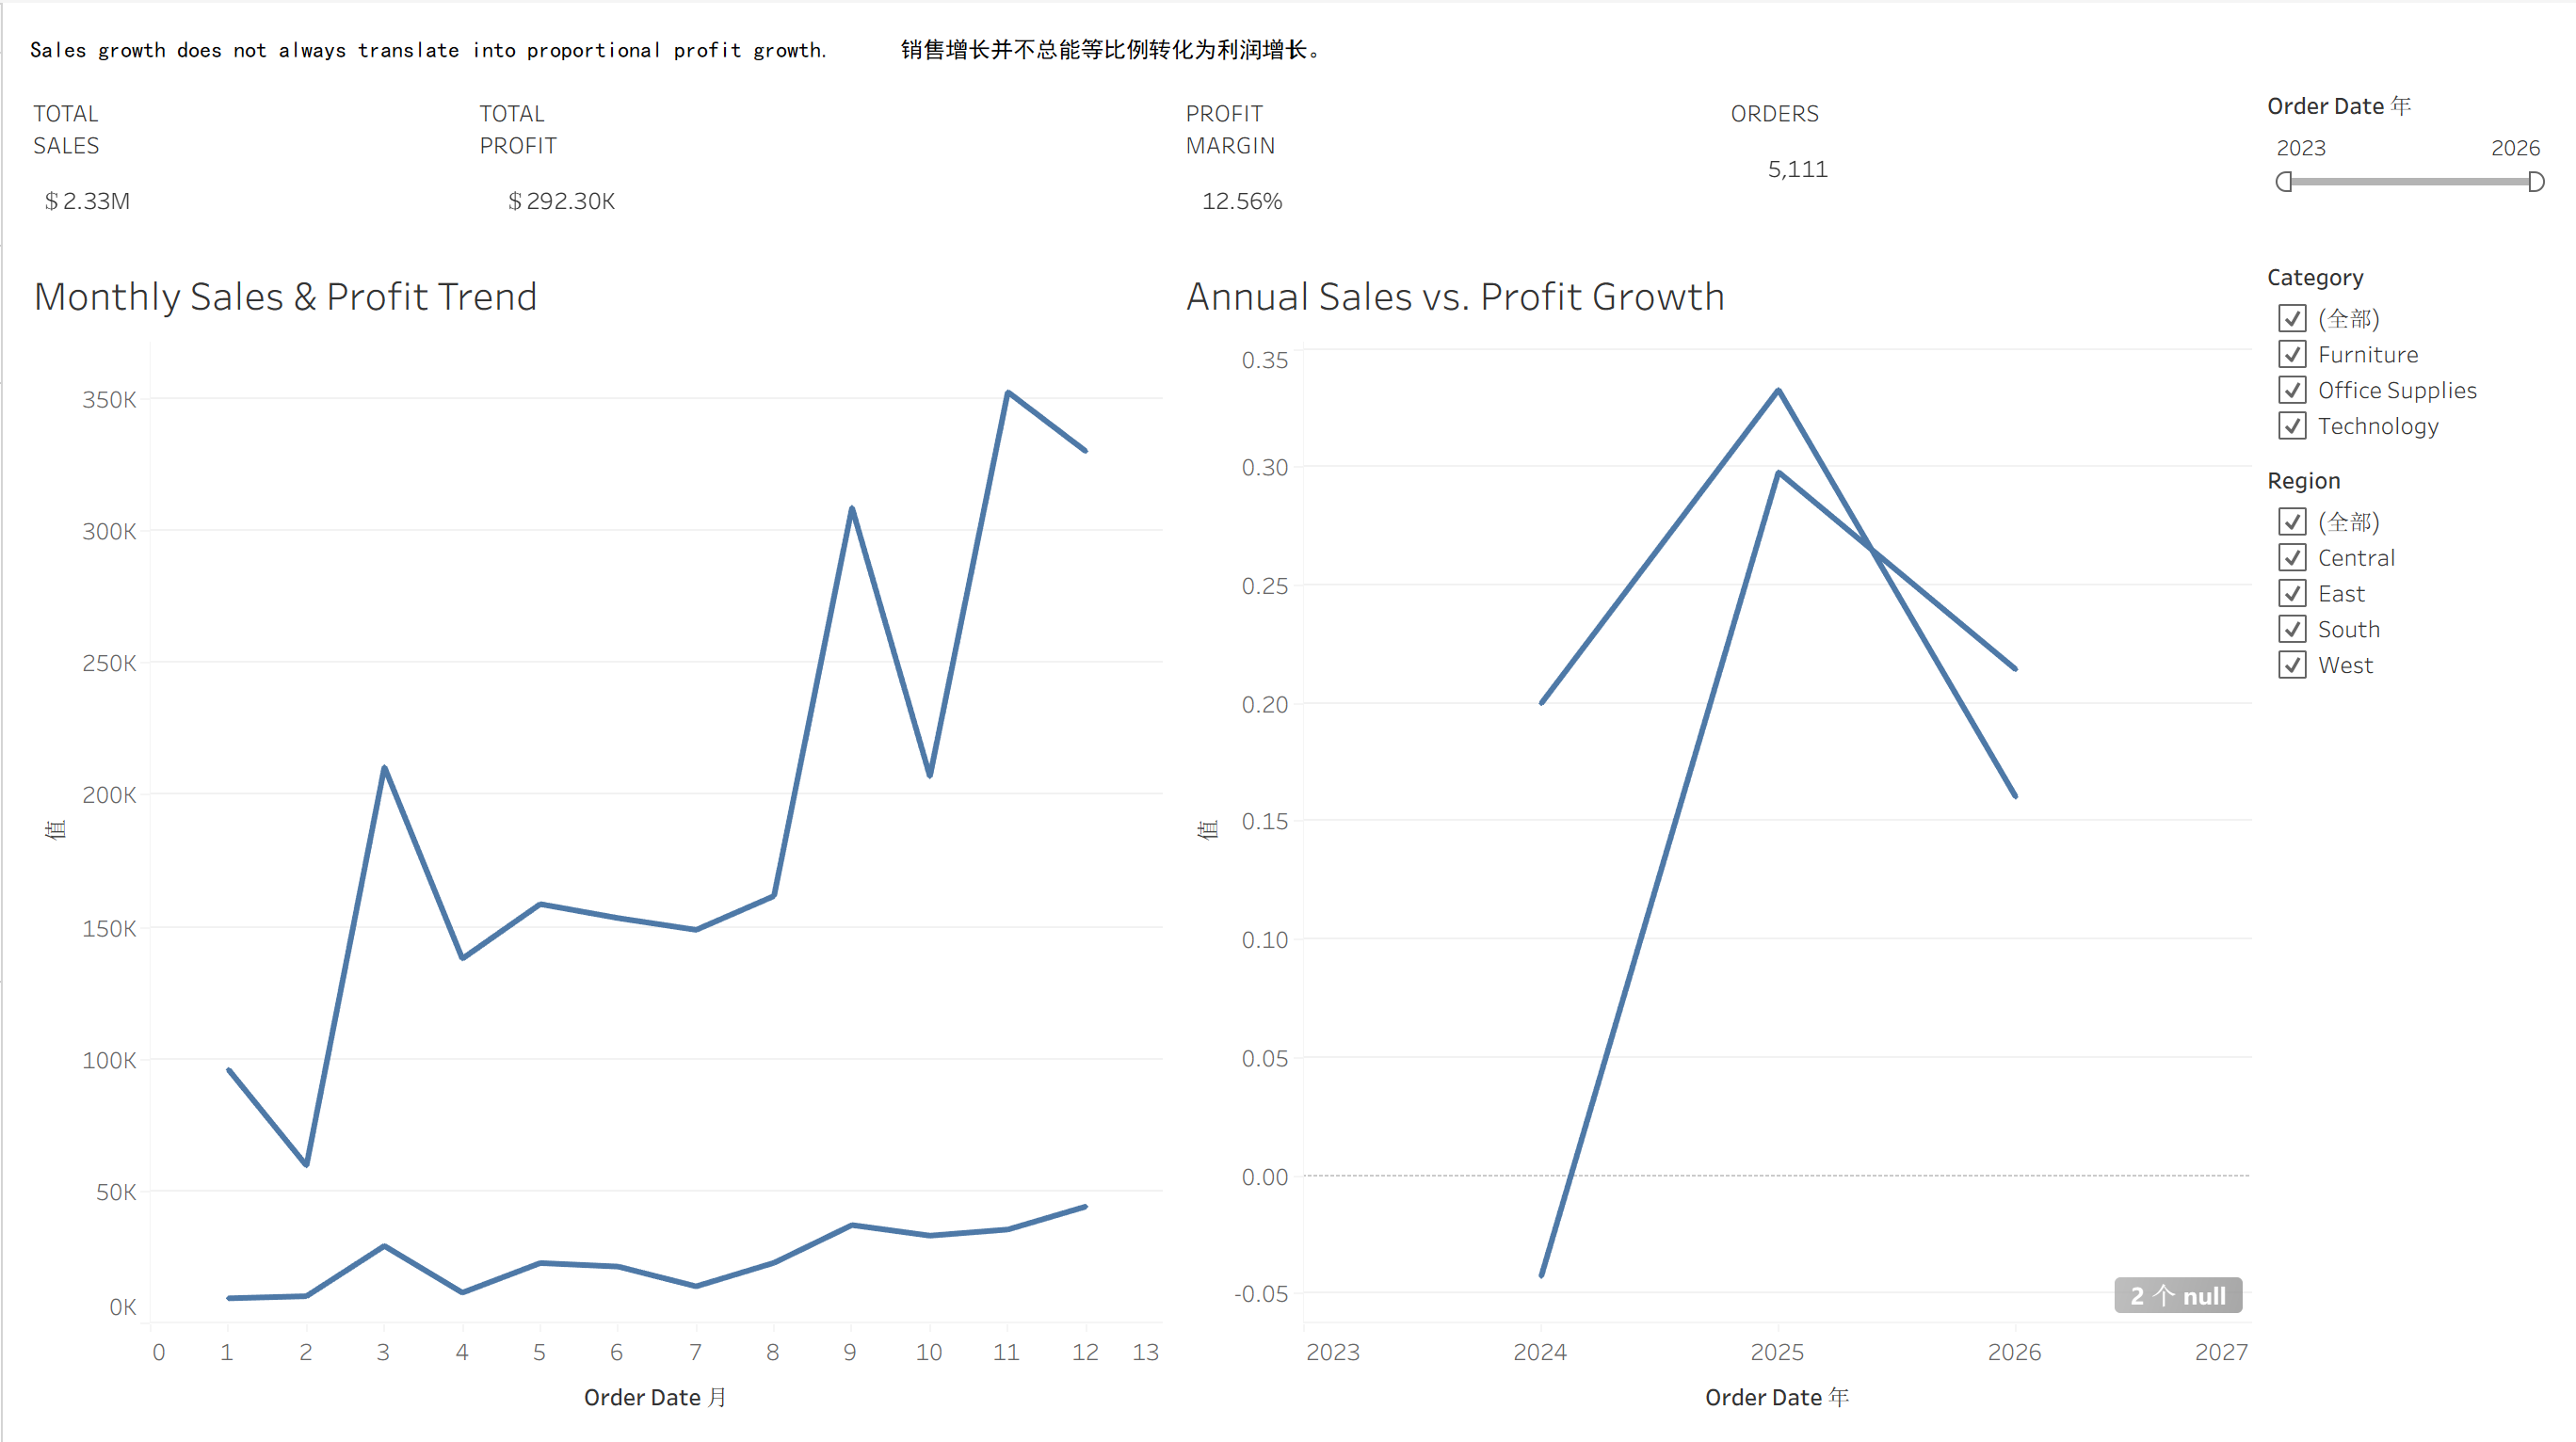

This screenshot's page, from the dashboard's own definition file:
{"tool":"tableau","page":{"name":"Executive Overview","canvas":[1366,768],"ordinal":0},"visuals":[{"type":"text","box":[8,8,1350,34]},{"type":"worksheet","title":"TOTAL SALES","mark":"Text","box":[8,42,237,91]},{"type":"worksheet","title":"TOTAL PROFIT","mark":"Text","box":[245,42,375,91]},{"type":"worksheet","title":"PROFIT MARGIN","mark":"Automatic","box":[620,42,289,91]},{"type":"worksheet","title":"ORDERS","mark":"Automatic","box":[909,42,289,91]},{"type":"filter","title":"TOTAL SALES","param":"[federated.0awvdnf0evw0s013zphp71mnepig].[yr:Order Date:qk]","box":[1198,42,160,69]},{"type":"legend","title":"Annual Sales vs. Profit Growth","param":"[federated.0awvdnf0evw0s013zphp71mnepig].[:Measure Names]","box":[1198,111,160,22]},{"type":"worksheet","title":"Monthly Sales & Profit Trend","mark":"Automatic","cols":["Order Date"],"box":[8,133,612,627]},{"type":"worksheet","title":"Annual Sales vs. Profit Growth","mark":"Automatic","cols":["Order Date"],"box":[620,133,578,627]},{"type":"filter","title":"TOTAL SALES","param":"[federated.0awvdnf0evw0s013zphp71mnepig].[none:Category:nk]","box":[1198,133,160,108]},{"type":"filter","title":"TOTAL SALES","param":"[federated.0awvdnf0evw0s013zphp71mnepig].[none:Region:nk]","box":[1198,241,160,127]}]}

Visuals, with their boxes in screenshot pixels (x1, y1, x2, y2), scaled from the page's 1366x768 canvas onto the 2576x1442 screenshot:
text: {"left": 15, "top": 15, "right": 2561, "bottom": 79}
"TOTAL SALES" worksheet (Text marks): {"left": 15, "top": 79, "right": 462, "bottom": 249}
"TOTAL PROFIT" worksheet (Text marks): {"left": 462, "top": 79, "right": 1169, "bottom": 249}
"PROFIT MARGIN" worksheet: {"left": 1169, "top": 79, "right": 1715, "bottom": 249}
"ORDERS" worksheet: {"left": 1715, "top": 79, "right": 2260, "bottom": 249}
"TOTAL SALES" filter: {"left": 2260, "top": 79, "right": 2561, "bottom": 208}
"Annual Sales vs. Profit Growth" legend: {"left": 2260, "top": 208, "right": 2561, "bottom": 249}
"Monthly Sales & Profit Trend" worksheet: {"left": 15, "top": 249, "right": 1169, "bottom": 1427}
"Annual Sales vs. Profit Growth" worksheet: {"left": 1169, "top": 249, "right": 2260, "bottom": 1427}
"TOTAL SALES" filter: {"left": 2260, "top": 249, "right": 2561, "bottom": 453}
"TOTAL SALES" filter: {"left": 2260, "top": 453, "right": 2561, "bottom": 691}
